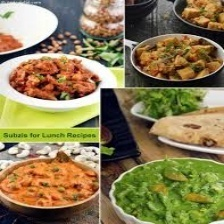roti: (148, 106, 224, 148)
